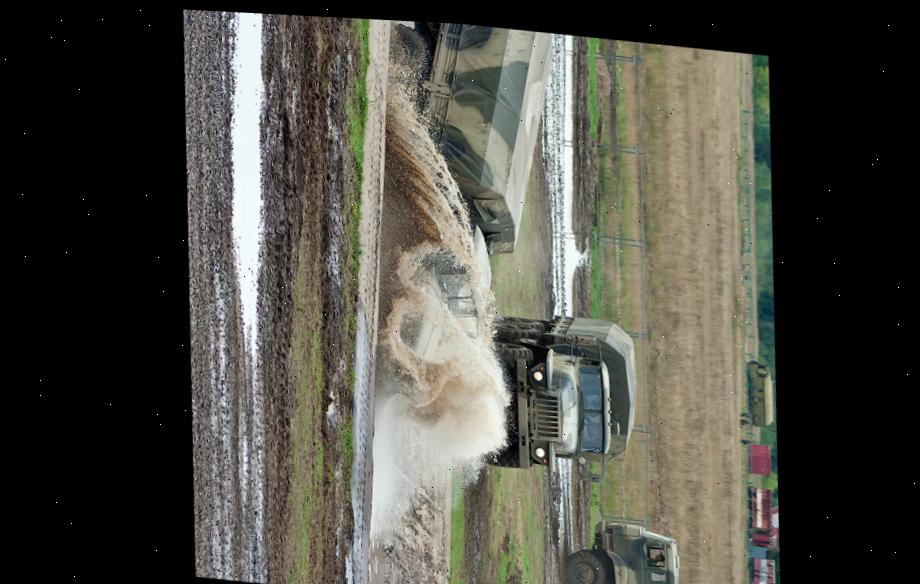truck: (333, 17, 574, 394), (473, 304, 647, 486), (558, 511, 690, 584), (460, 48, 470, 75)
